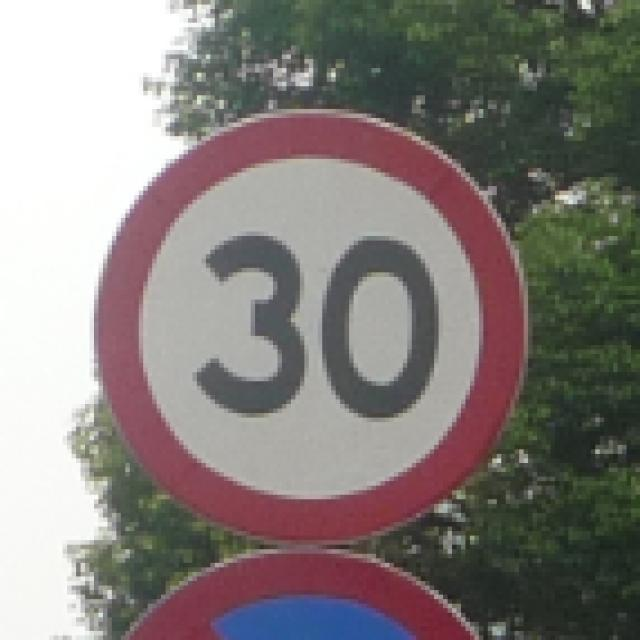Speed: (94, 104, 530, 551)
